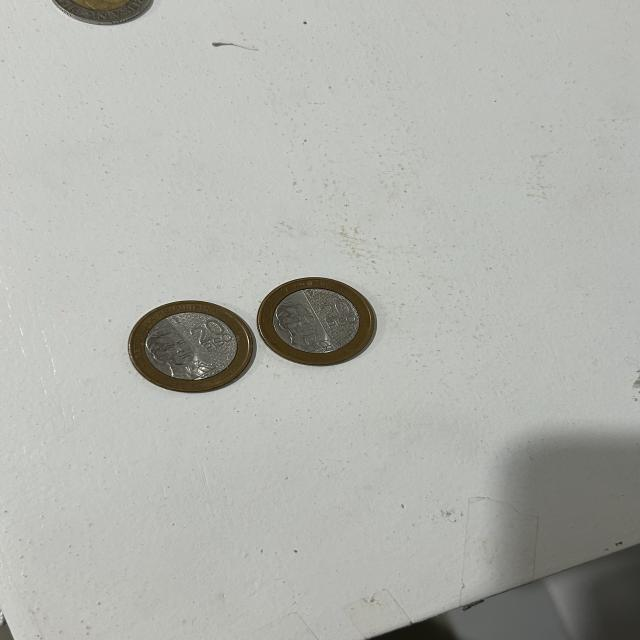20_New_Front: (309, 294, 362, 336), (188, 321, 240, 357)
